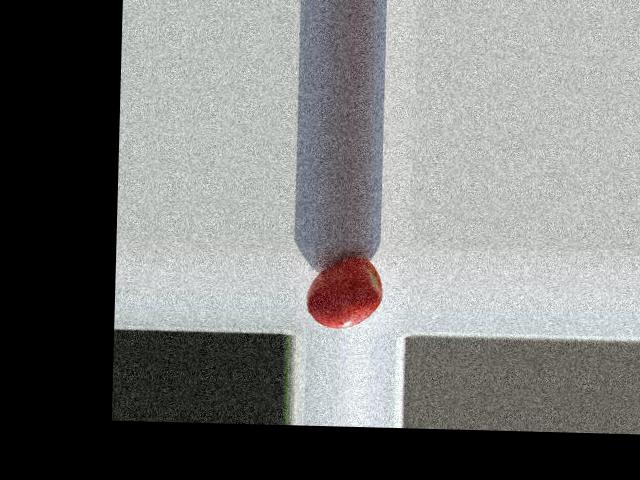tomato: (305, 256, 383, 329)
